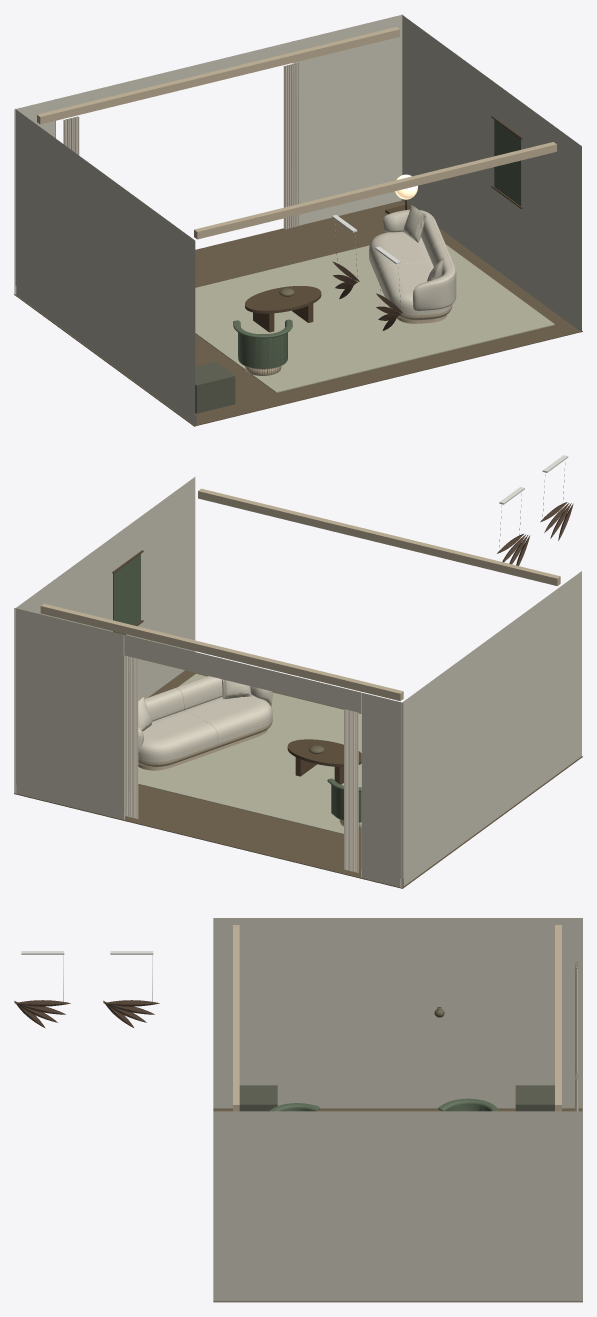
The model's file is great-3.glb.
3 views of the same model, one above another, from view 1: azimuth 30°, elevation 25°; view 2: azimuth 150°, elevation 25°; view 3: azimuth 270°, elevation 25° (orthographic). The views are drawn at different scales.
Visible parts, largest first — view 1: DESIGN | great removable wall finish, DESIGN | Great room primary ground, DESIGN | great floor finish, DESIGN | Great room sofa facing conversation, DESIGN | Garden salon perimeter timber.001, DESIGN | Garden salon perimeter timber, DESIGN | Great room soft window edge.001, DESIGN | Required Bellustar swivel chair one, DESIGN | Great room low stone display, DESIGN | Great room linen hanging, DESIGN | R7 low conversation table, DESIGN | Great room soft window edge; view 2: DESIGN | great removable wall finish, DESIGN | Great room primary ground, DESIGN | great floor finish, DESIGN | Great room sofa facing conversation, DESIGN | Garden salon perimeter timber.001, DESIGN | Garden salon perimeter timber, DESIGN | Great room soft window edge, DESIGN | Great room soft window edge.001, DESIGN | Great room linen hanging, DESIGN | R7 low conversation table, DESIGN | Required Bellustar swivel chair two, DESIGN | Required Flou pendant 1; view 3: DESIGN | great removable wall finish, DESIGN | great floor finish, DESIGN | Garden salon perimeter timber, DESIGN | Garden salon perimeter timber.001, DESIGN | Great room low stone display.001, DESIGN | Great room low stone display, DESIGN | Required Flou pendant 2, DESIGN | Required Flou pendant 1, DESIGN | Required Bellustar swivel chair two.
Boxes of the visible parts, x1=… form: DESIGN | great removable wall finish: x1=14, y1=14, x2=581, y2=425; DESIGN | Great room primary ground: x1=195, y1=245, x2=554, y2=392; DESIGN | great floor finish: x1=14, y1=200, x2=582, y2=426; DESIGN | Great room sofa facing conversation: x1=369, y1=205, x2=456, y2=323; DESIGN | Garden salon perimeter timber.001: x1=37, y1=27, x2=399, y2=124; DESIGN | Garden salon perimeter timber: x1=194, y1=142, x2=556, y2=239; DESIGN | Great room soft window edge.001: x1=283, y1=62, x2=299, y2=229; DESIGN | Required Bellustar swivel chair one: x1=233, y1=319, x2=292, y2=375; DESIGN | Great room low stone display: x1=195, y1=362, x2=235, y2=413; DESIGN | Great room linen hanging: x1=494, y1=120, x2=521, y2=206; DESIGN | R7 low conversation table: x1=245, y1=286, x2=321, y2=313; DESIGN | Great room soft window edge: x1=63, y1=116, x2=79, y2=155; DESIGN | great removable wall finish: x1=14, y1=477, x2=581, y2=887; DESIGN | Great room primary ground: x1=138, y1=673, x2=361, y2=834; DESIGN | great floor finish: x1=14, y1=670, x2=582, y2=888; DESIGN | Great room sofa facing conversation: x1=138, y1=676, x2=272, y2=770; DESIGN | Garden salon perimeter timber.001: x1=40, y1=603, x2=403, y2=700; DESIGN | Garden salon perimeter timber: x1=198, y1=488, x2=560, y2=586; DESIGN | Great room soft window edge: x1=344, y1=709, x2=358, y2=873; DESIGN | Great room soft window edge.001: x1=124, y1=655, x2=138, y2=819; DESIGN | Great room linen hanging: x1=113, y1=554, x2=140, y2=634; DESIGN | R7 low conversation table: x1=287, y1=739, x2=361, y2=766; DESIGN | Required Bellustar swivel chair two: x1=327, y1=778, x2=361, y2=829; DESIGN | Required Flou pendant 1: x1=540, y1=502, x2=573, y2=540; DESIGN | great removable wall finish: x1=213, y1=918, x2=582, y2=1301; DESIGN | great floor finish: x1=213, y1=1108, x2=582, y2=1302; DESIGN | Garden salon perimeter timber: x1=233, y1=925, x2=239, y2=1111; DESIGN | Garden salon perimeter timber.001: x1=555, y1=925, x2=561, y2=1111; DESIGN | Great room low stone display.001: x1=515, y1=1085, x2=554, y2=1111; DESIGN | Great room low stone display: x1=239, y1=1085, x2=277, y2=1111; DESIGN | Required Flou pendant 2: x1=103, y1=1000, x2=159, y2=1027; DESIGN | Required Flou pendant 1: x1=14, y1=1000, x2=70, y2=1028; DESIGN | Required Bellustar swivel chair two: x1=438, y1=1098, x2=498, y2=1111.
Bounding box in the file's own units: 6 × 3.04 × 7.42.
